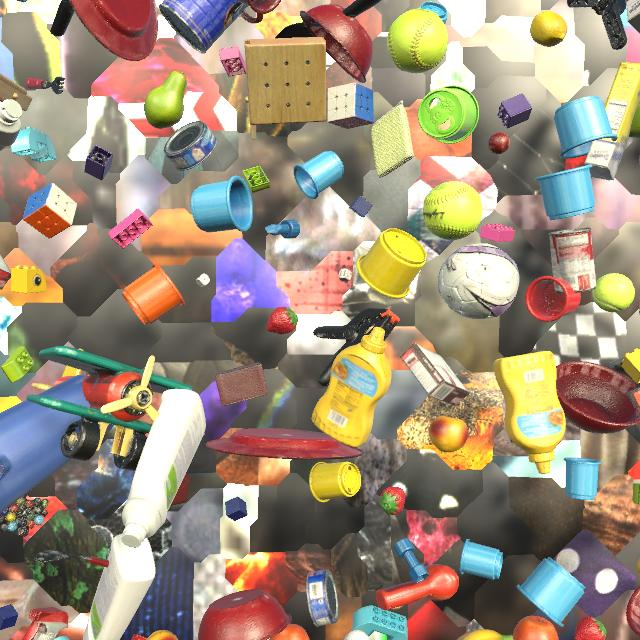ycb_002_master_chef_can: (159, 0, 248, 54)
ycb_004_sugar_box: (584, 62, 640, 180), (626, 0, 640, 33)
ycb_005_tomato_soup_can: (549, 228, 596, 294)
ycb_006_mustard_bottle: (312, 327, 392, 447), (493, 351, 566, 474)
ycb_007_tuna_fish_can: (164, 121, 217, 171), (306, 569, 339, 627)
ycb_008_pudding_box: (400, 343, 470, 406), (0, 254, 11, 290)
ycb_011_banana: (457, 629, 513, 640)
ycb_012_strawberry: (267, 307, 298, 334), (575, 616, 607, 640), (379, 487, 405, 515)
ycb_014_lemon: (530, 11, 567, 47)
ycb_015_peach: (429, 416, 468, 453), (147, 630, 178, 640), (637, 558, 640, 579)
ycb_016_pear: (144, 71, 187, 129), (629, 102, 640, 139)
ycb_017_orange: (513, 616, 559, 640), (269, 624, 310, 640)
